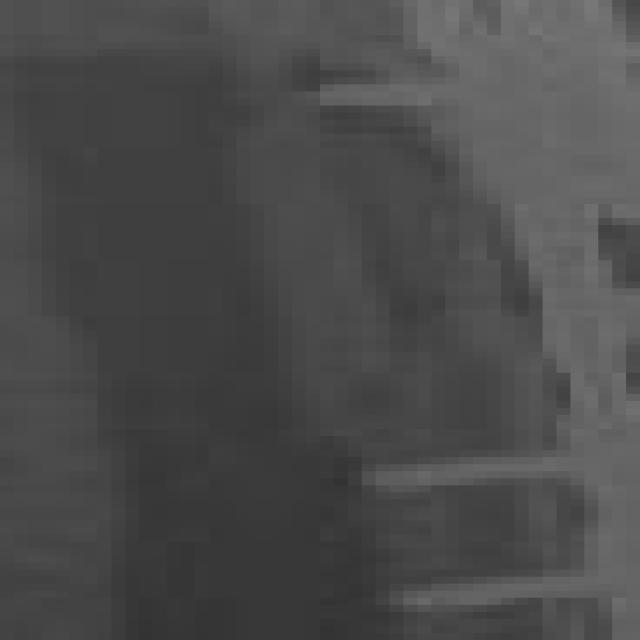fracture: (5, 1, 640, 638)
